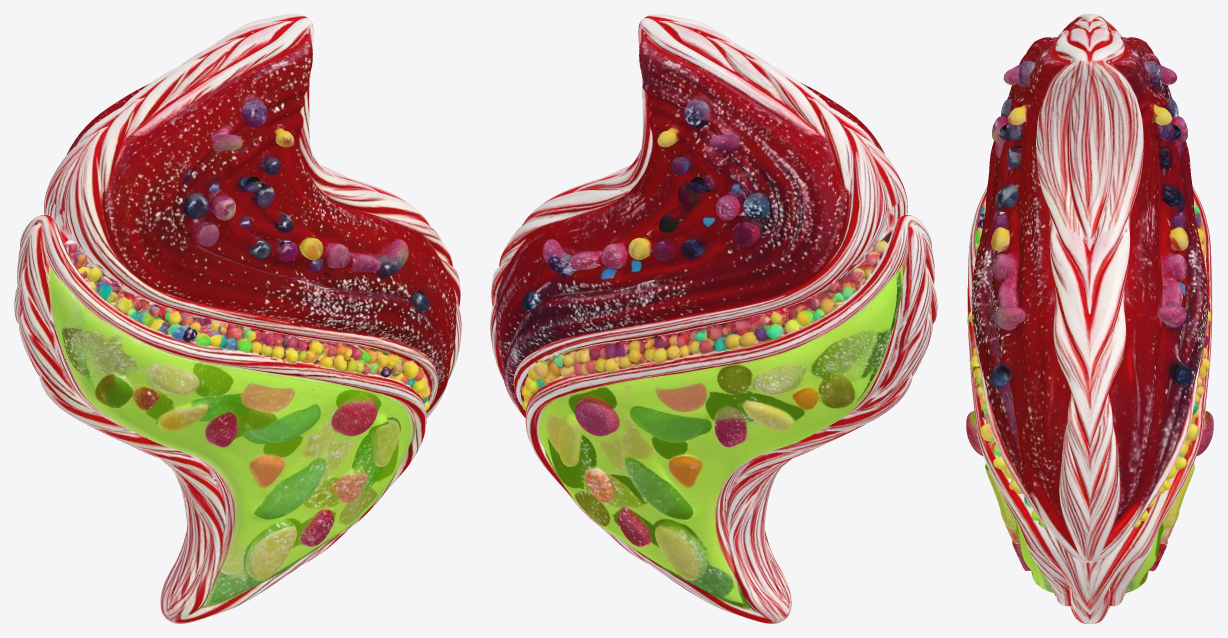
The model's file is opt_candy_ribbon.glb.
The picture shows the model from 3 angles, left to right: view 1: azimuth 30°, elevation 25°; view 2: azimuth 150°, elevation 25°; view 3: azimuth 270°, elevation 25°; orthographic projection. The views are drawn at different scales.
Bounding box in the file's own units: 1.51 × 1.9 × 0.7129.
1 material, 1 textured.
